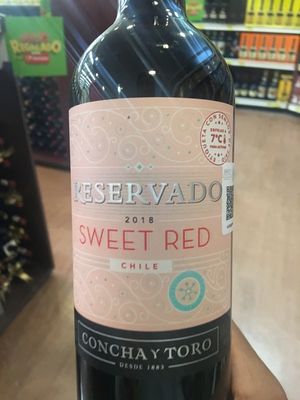reservado sweet red: (68, 8, 237, 400)
